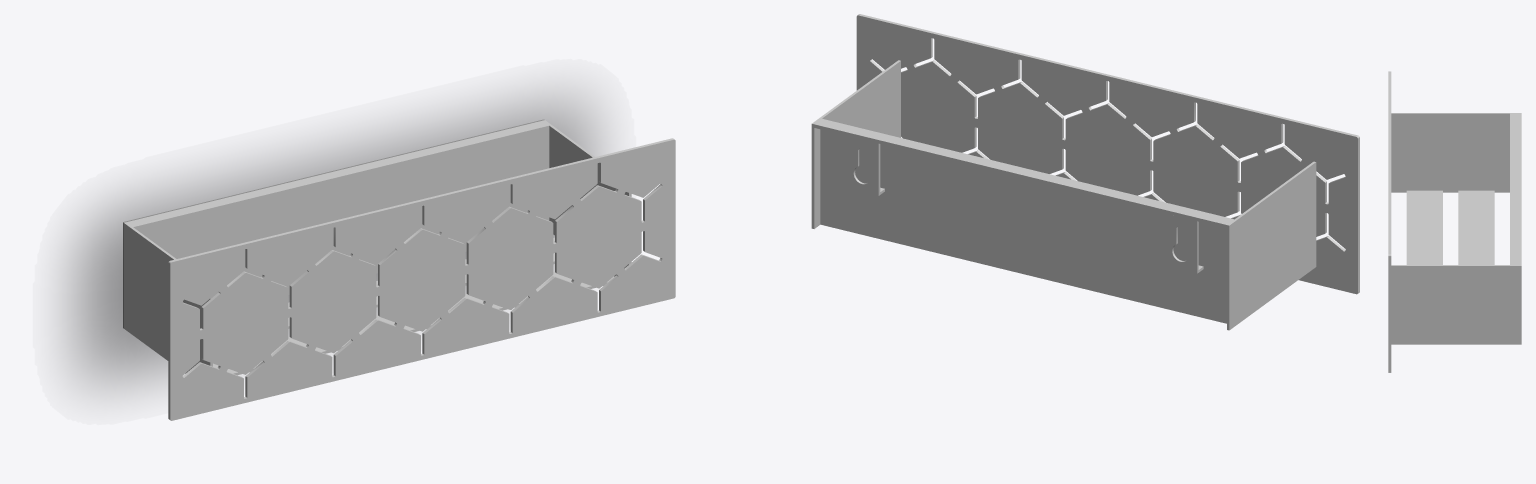
File: bee-mono.829190af51.ar.glb
3 renders of one model, left to right at view 1: azimuth 30°, elevation 25°; view 2: azimuth 150°, elevation 25°; view 3: azimuth 270°, elevation 25°, orthographic. The views are drawn at different scales.
Visible parts, largest first — view 1: NAUO1, object 2; view 2: NAUO1; view 3: NAUO1.
Boxes of the visible parts, left/top/right/bottom form: NAUO1: left=123, top=119, right=675, bottom=420; object 2: left=66, top=96, right=602, bottom=387; NAUO1: left=811, top=14, right=1359, bottom=330; NAUO1: left=1388, top=71, right=1521, bottom=372.
Bounding box in the file's own units: 0.38 × 0.17 × 0.092.
2 materials, 1 textured.
